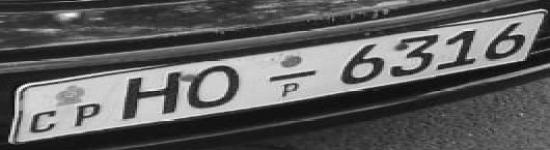-: (264, 68, 323, 84)
1: (436, 28, 481, 71)
3: (386, 34, 445, 79)
6: (334, 42, 389, 86), (481, 21, 528, 60)
C: (27, 109, 60, 134)
H: (118, 70, 184, 122)
O: (188, 63, 245, 110)
P: (69, 102, 105, 128)
